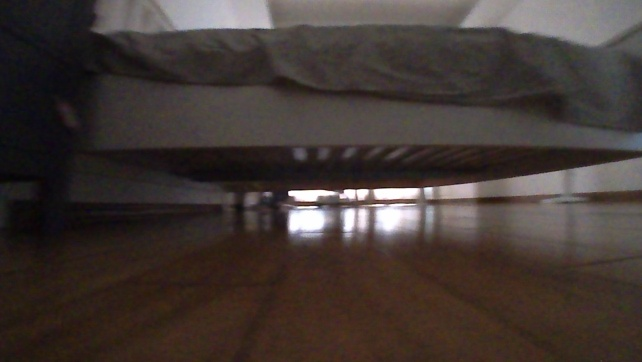bed: (63, 0, 641, 195)
